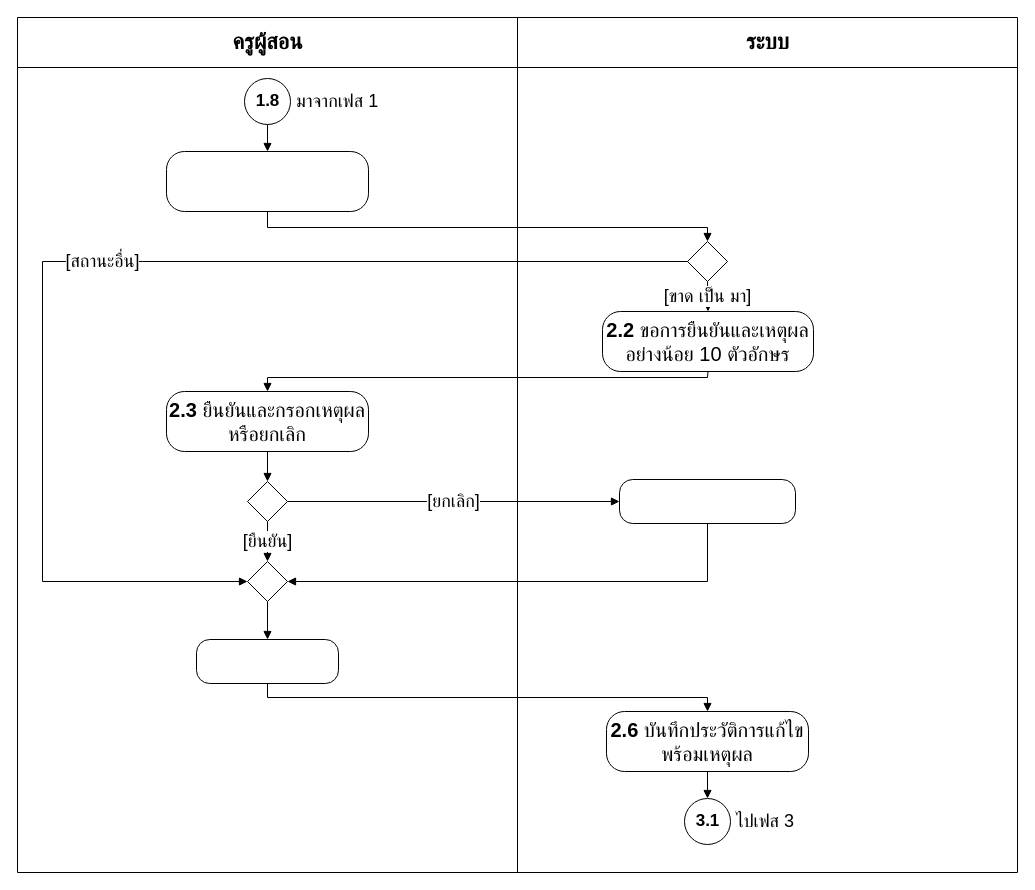
The diagram is 1035 pixels wide and 890 high, and some of its shapes have lost their labels. Each missing label, with the box of its shape:
2.1 เลือกคาบที่เช็คชื่อแล้ว และแก้สถานะนักเรียน: (166, 150, 368, 212)
2.4 คงสถานะ “ขาด”: (618, 478, 796, 524)
2.5 กด “บันทึก”: (196, 638, 338, 684)
